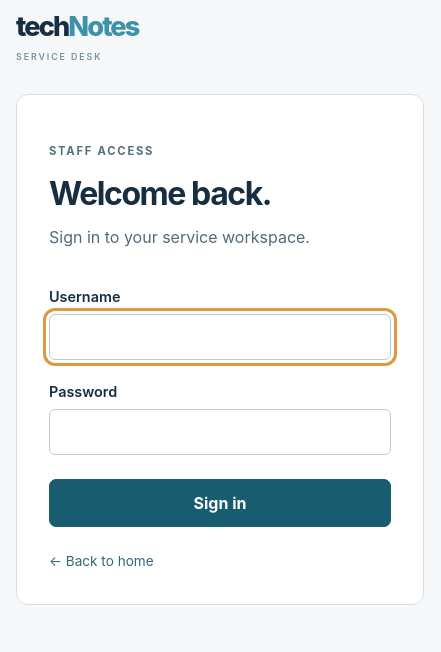
Test: invalid login displays the server error
Type "admin" into the field labelled "Username" at (220, 337), box x1=49 y1=314 x2=391 y2=360
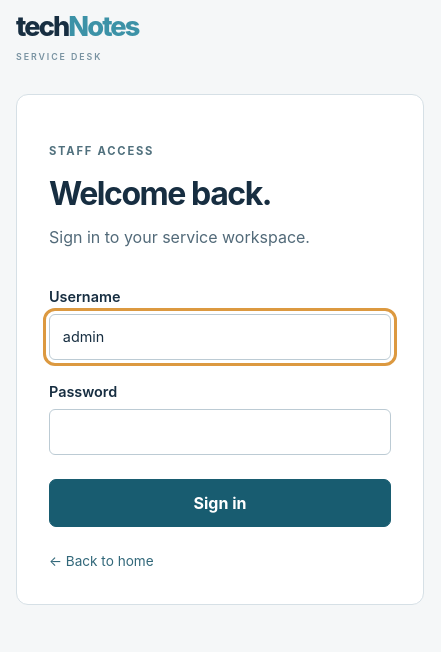
Type "wrong" into the password field labelled "Password" at (220, 432), box x1=49 y1=409 x2=391 y2=455
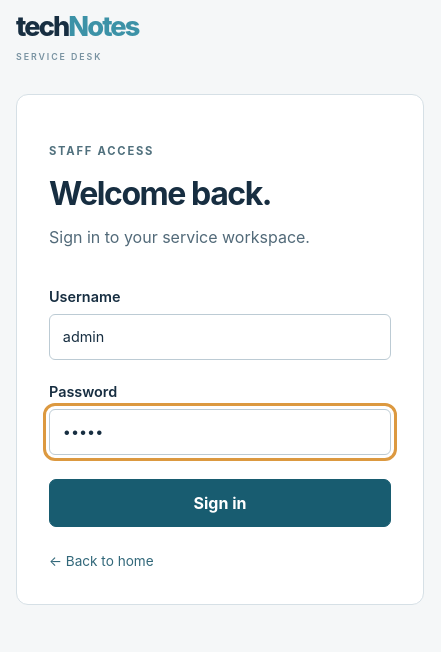
Click the button "Sign in" at (220, 503), box x1=49 y1=479 x2=391 y2=527
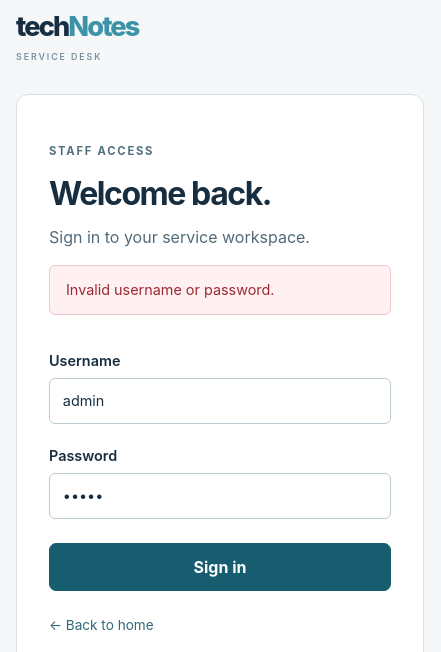
Expected: the message reads "Invalid username or password.", x1=66 y1=281 x2=274 y2=298
